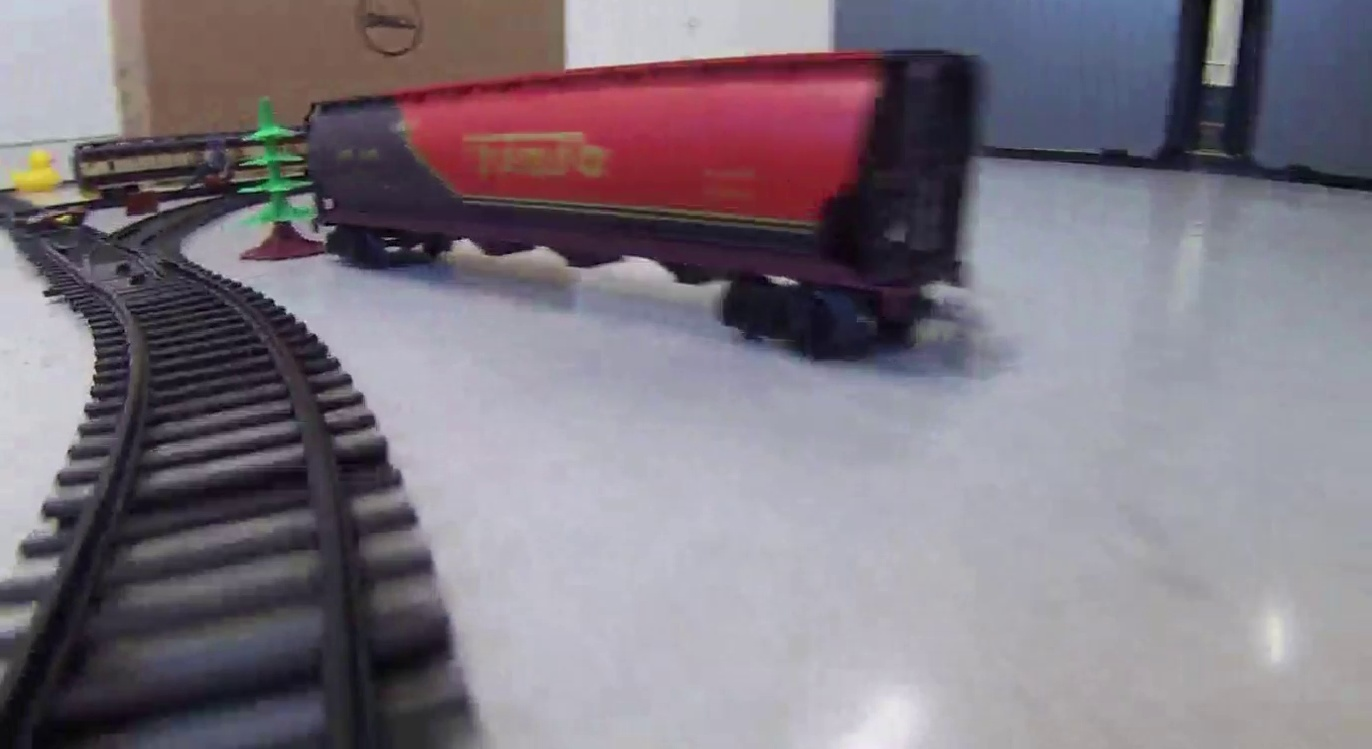tree: (237, 99, 315, 259)
